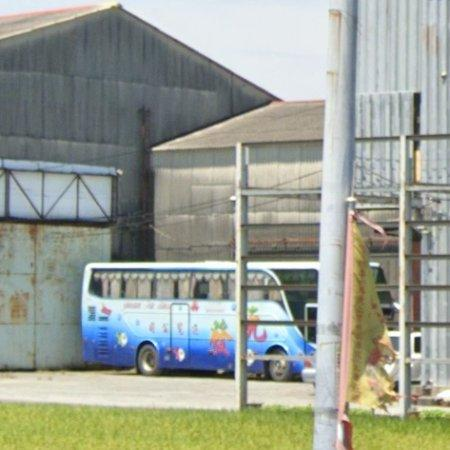buses: (81, 263, 234, 374), (248, 263, 319, 382)
